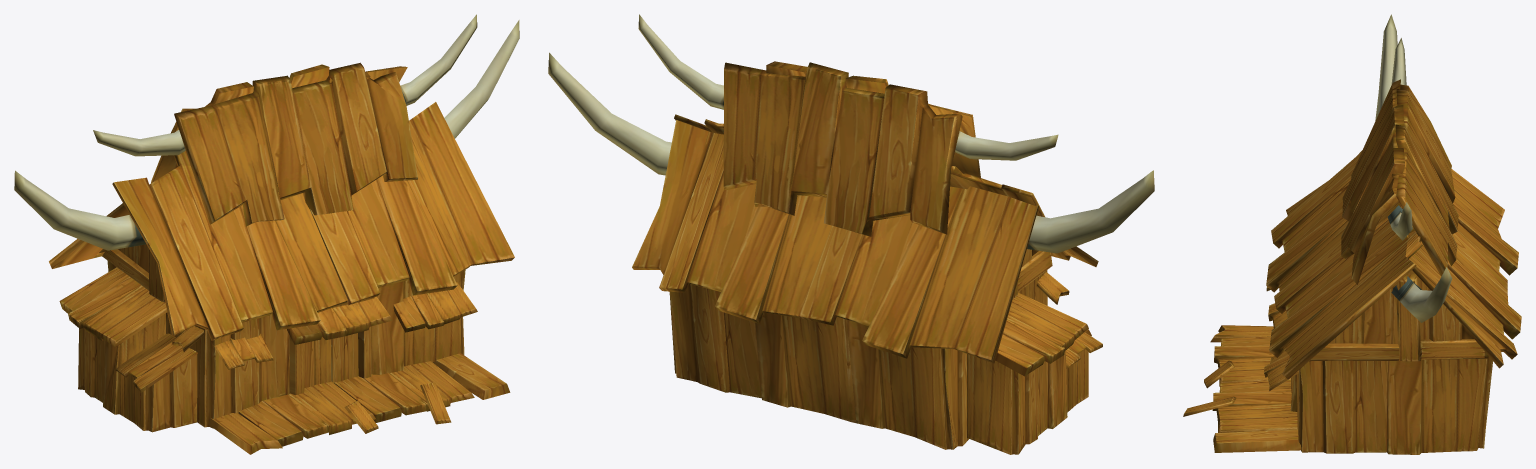
Rendered from Huangdi_jianzhu03.FBX.
The picture shows the model from 3 angles, left to right: view 1: azimuth 30°, elevation 25°; view 2: azimuth 150°, elevation 25°; view 3: azimuth 270°, elevation 25°; orthographic projection. The views are drawn at different scales.
Visible parts, largest first — view 1: Object150; view 2: Object150; view 3: Object150.
Boxes of the visible parts, x1,y1,x2,y2 form: Object150: (14,14,519,454); Object150: (548,14,1154,454); Object150: (1183,14,1521,454).
Bounding box in the file's own units: 948 × 510 × 536.
